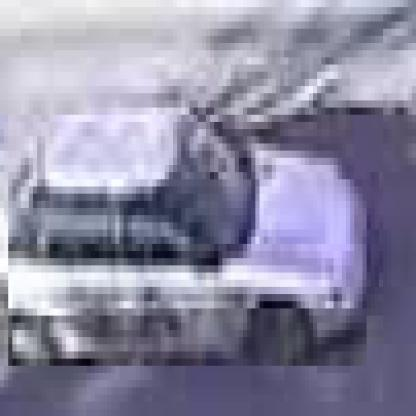car: (5, 116, 368, 374)
